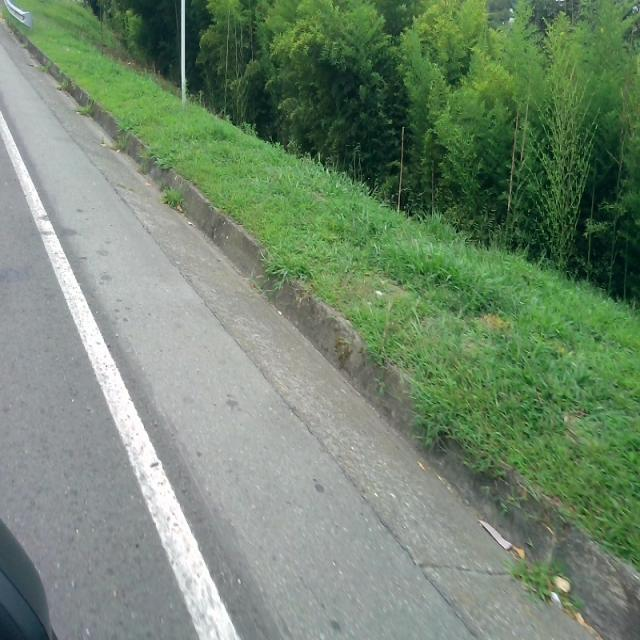DITCH: (1, 16, 636, 638)
